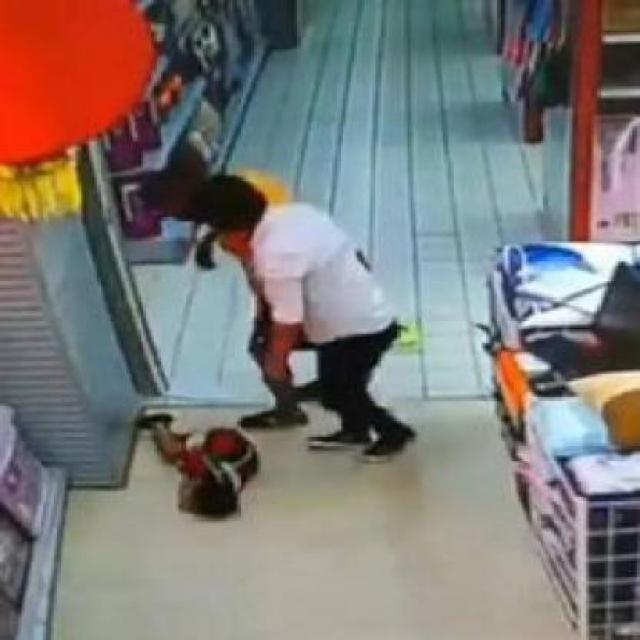fall: (135, 397, 268, 521)
